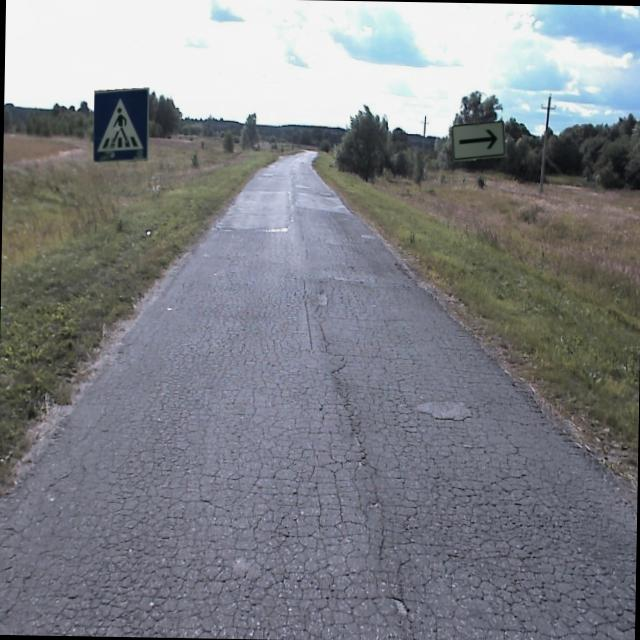road: (0, 151, 636, 640)
